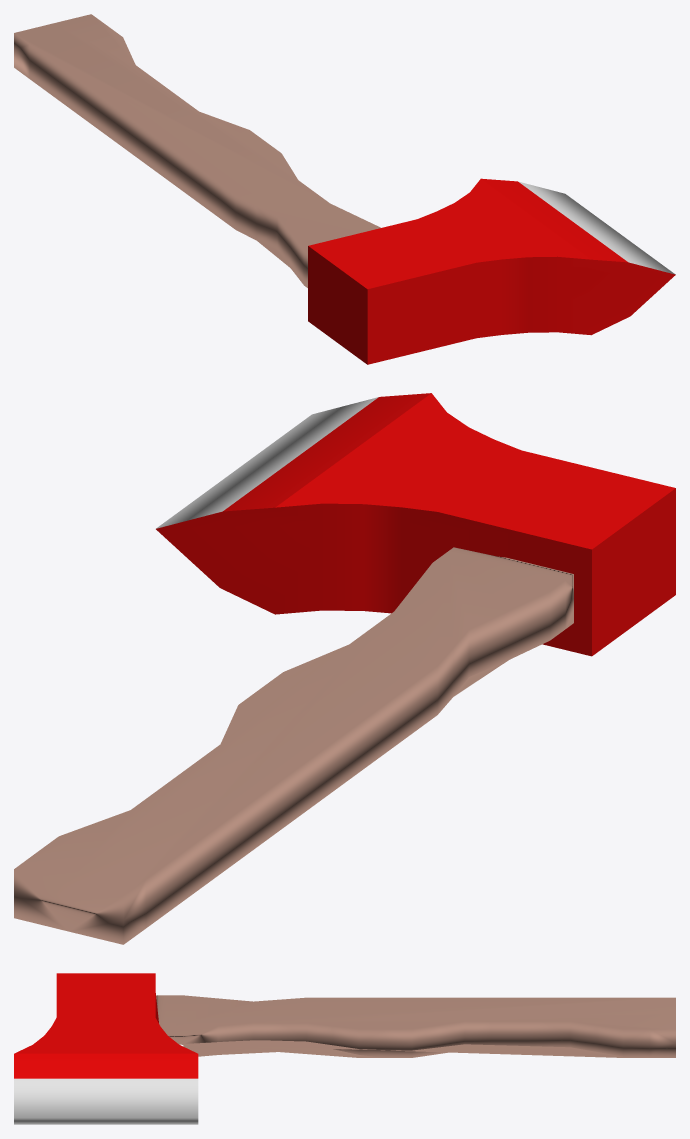
The model's file is Axe.fbx.
The picture shows the model from 3 angles, top to bottom: view 1: azimuth 30°, elevation 25°; view 2: azimuth 150°, elevation 25°; view 3: azimuth 270°, elevation 25°; orthographic projection. The views are drawn at different scales.
Visible parts, largest first — view 1: pCube1, pCube2; view 2: pCube1, pCube2; view 3: pCube2, pCube1.
Part boxes in pixels (bbox=[...]): pCube1: bbox=[308, 178, 675, 364]; pCube2: bbox=[14, 14, 380, 287]; pCube1: bbox=[156, 393, 675, 656]; pCube2: bbox=[14, 547, 573, 944]; pCube2: bbox=[156, 995, 675, 1057]; pCube1: bbox=[14, 973, 198, 1124].
Bounding box in the file's own units: 1.03 × 0.2641 × 2.52.
